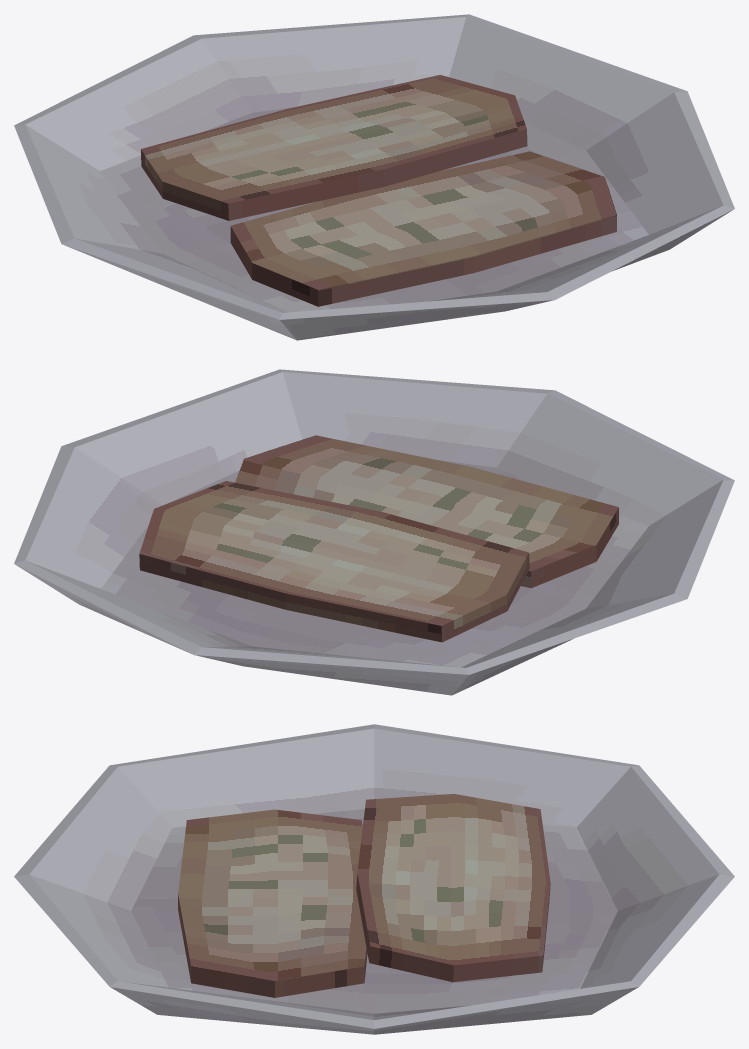
File: BreadOnine.fbx
The picture shows the model from 3 angles, top to bottom: view 1: azimuth 30°, elevation 25°; view 2: azimuth 150°, elevation 25°; view 3: azimuth 270°, elevation 25°; orthographic projection.
Parts seen in each view (by area): view 1: Cube.006; view 2: Cube.006; view 3: Cube.006.
Part boxes in pixels (x1,y1,x2,y2): Cube.006: [14, 14, 734, 340]; Cube.006: [14, 369, 734, 695]; Cube.006: [14, 724, 734, 1034].
Size of the model in its own units: 281 by 22.64 by 281.
Materials: 1 (1 with a texture image).
